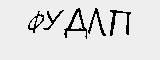Д: (64, 7, 87, 37)
Л: (86, 7, 105, 36)
П: (108, 9, 132, 39)
У: (40, 8, 64, 33)
Ф: (28, 11, 44, 35)
